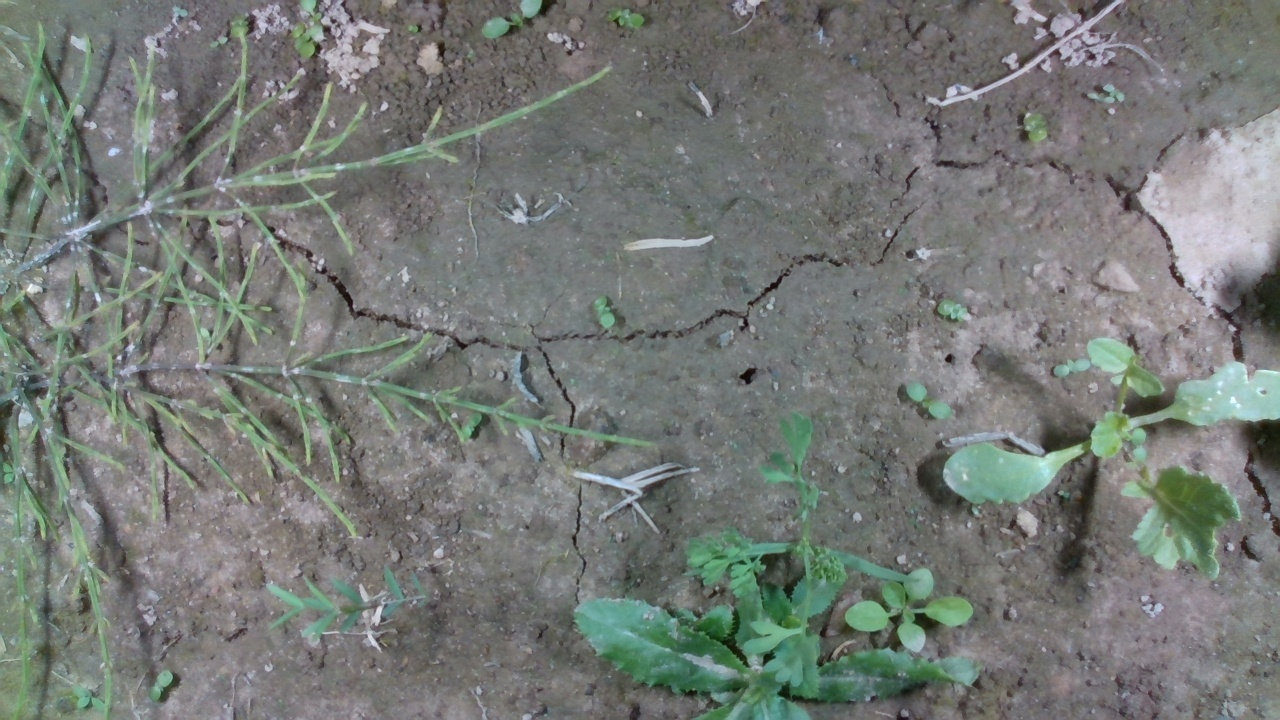weed: (932, 289, 985, 337), (901, 380, 956, 425), (584, 288, 632, 336), (1089, 81, 1133, 121), (1058, 351, 1079, 379)
